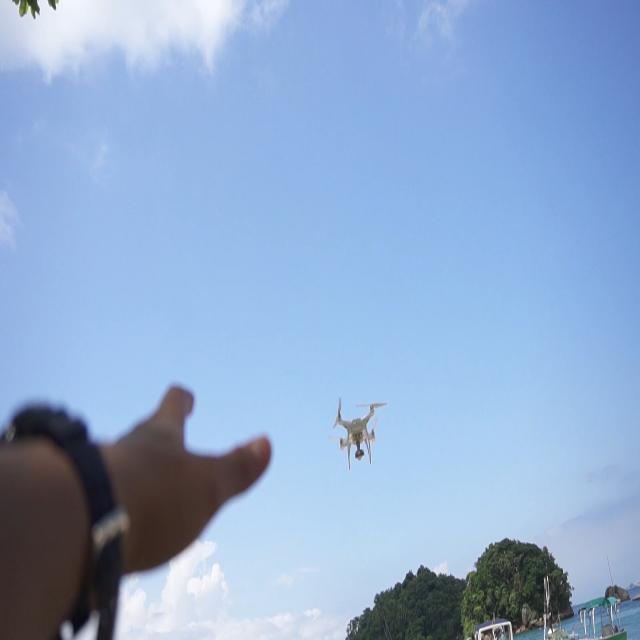Drone: (332, 395, 386, 478)
